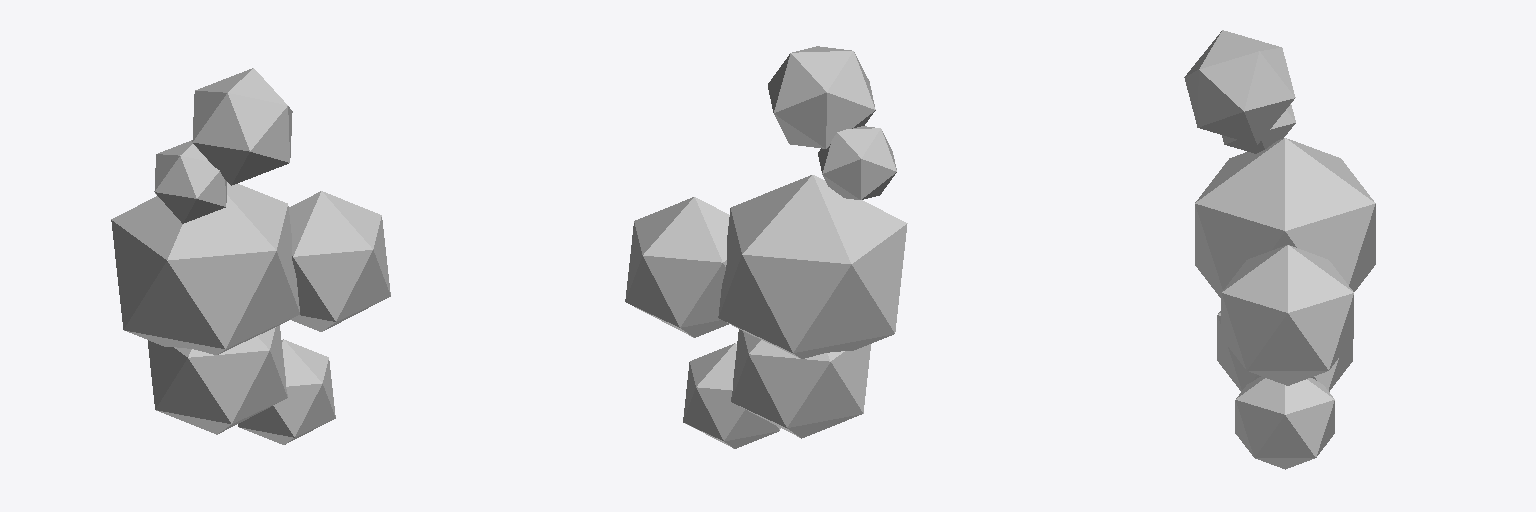
File: memory1.obj
3 renders of one model, left to right at view 1: azimuth 30°, elevation 25°; view 2: azimuth 150°, elevation 25°; view 3: azimuth 270°, elevation 25°, orthographic.
Visible parts, largest first — view 1: Memory1_Icosphere.005; view 2: Memory1_Icosphere.005; view 3: Memory1_Icosphere.005.
Part boxes in pixels (bbox=[...]): Memory1_Icosphere.005: bbox=[111, 68, 390, 444]; Memory1_Icosphere.005: bbox=[625, 46, 907, 448]; Memory1_Icosphere.005: bbox=[1184, 30, 1375, 469].
Size of the model in its own units: 1.03 by 1.5 by 0.6542.